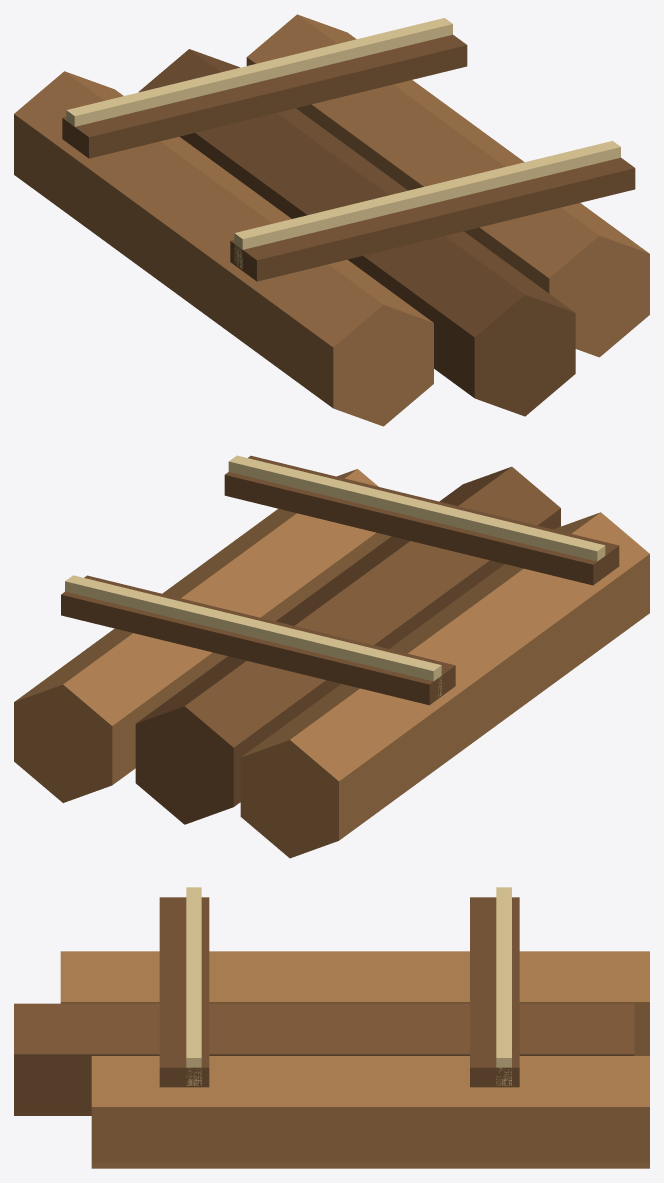
File: driftwood.glb
The picture shows the model from 3 angles, top to bottom: view 1: azimuth 30°, elevation 25°; view 2: azimuth 150°, elevation 25°; view 3: azimuth 270°, elevation 25°; orthographic projection. The views are drawn at different scales.
Visible parts, largest first — view 1: Body; view 2: Body; view 3: Body.
Boxes of the visible parts, x1,y1,x2,y2 form: Body: (14, 14, 649, 426); Body: (14, 455, 649, 858); Body: (14, 887, 649, 1168).
Size of the model in its own units: 1.3 by 0.51 by 2.05.
